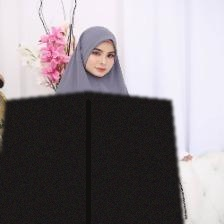Cadar_Niqab: (0, 19, 183, 224)
